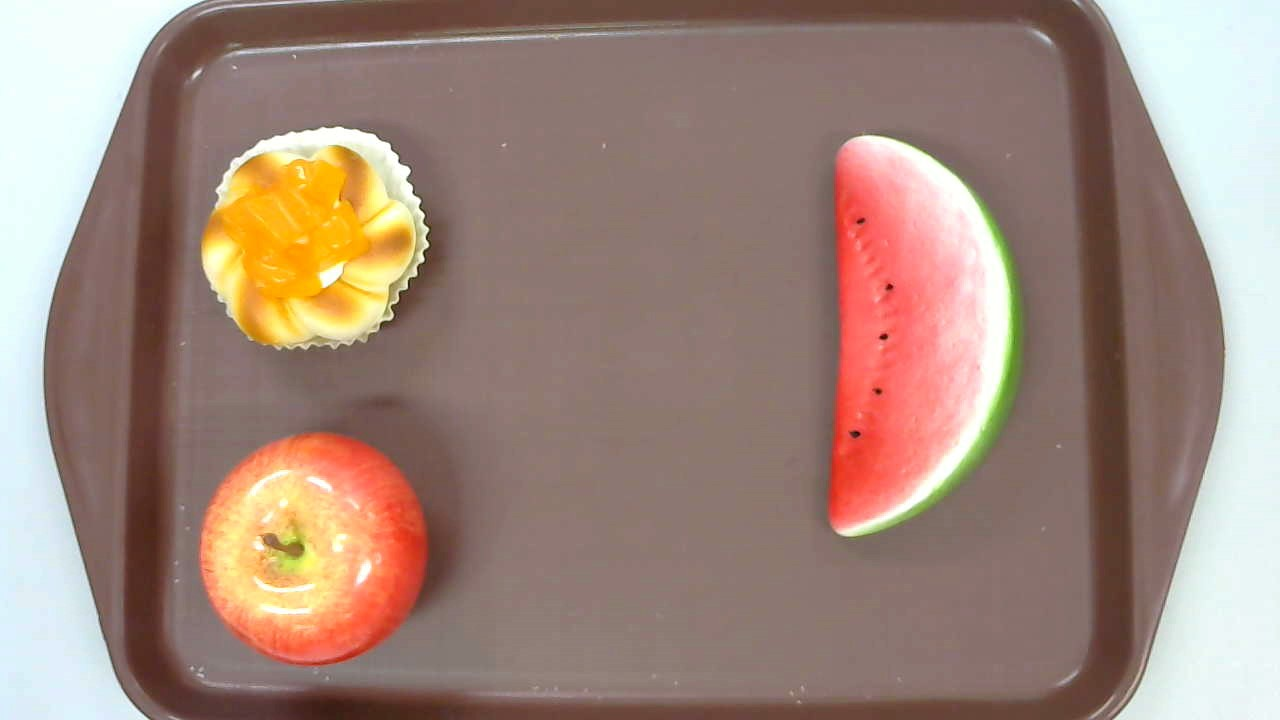mango tart: (202, 126, 429, 353)
red apple: (198, 431, 429, 666)
water melon: (827, 133, 1026, 537)
